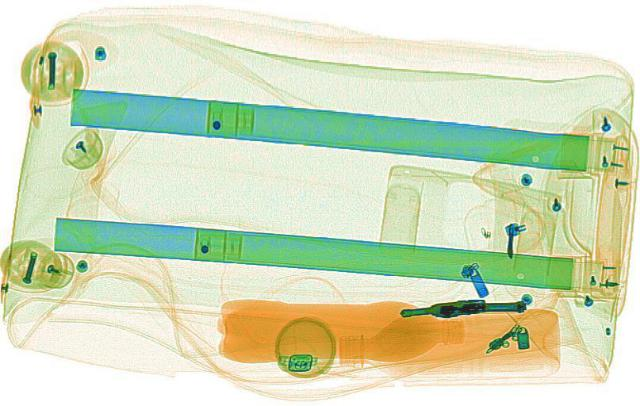Gun: (396, 295, 532, 316)
